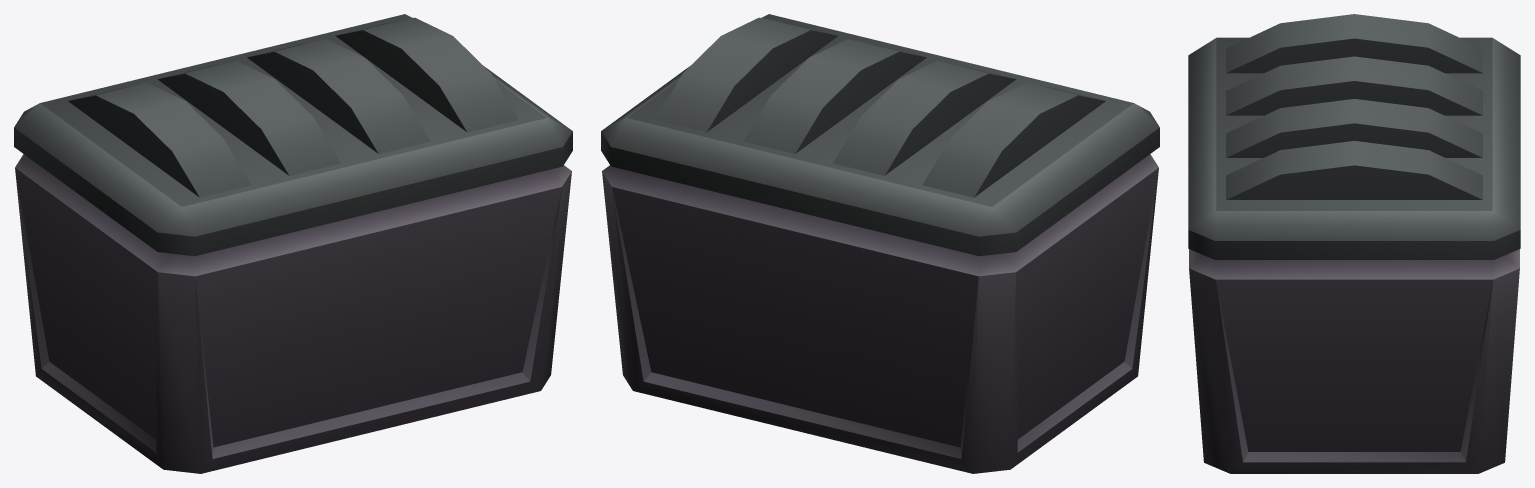
Rendered from Trash_Container_3A.fbx.
3 views of the same model, side by side, from view 1: azimuth 30°, elevation 25°; view 2: azimuth 150°, elevation 25°; view 3: azimuth 270°, elevation 25° (orthographic). The views are drawn at different scales.
Parts seen in each view (by area): view 1: Trash_Container_3A; view 2: Trash_Container_3A; view 3: Trash_Container_3A.
Part boxes in pixels (x1,y1,x2,y2): Trash_Container_3A: [14, 14, 572, 473]; Trash_Container_3A: [601, 14, 1159, 473]; Trash_Container_3A: [1188, 14, 1520, 473].
Size of the model in its own units: 279 by 193 by 199.
